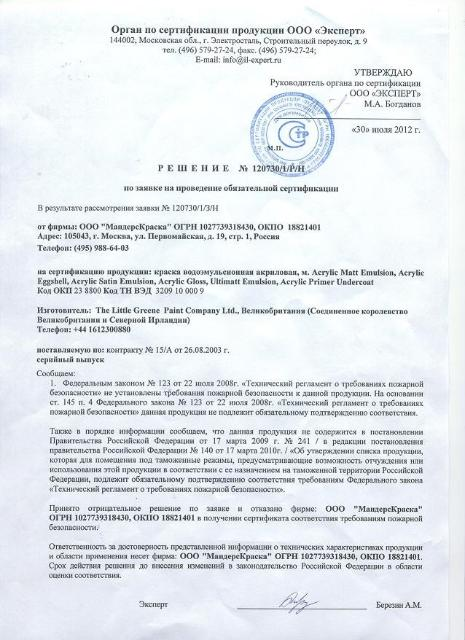stamp: (252, 94, 334, 178)
